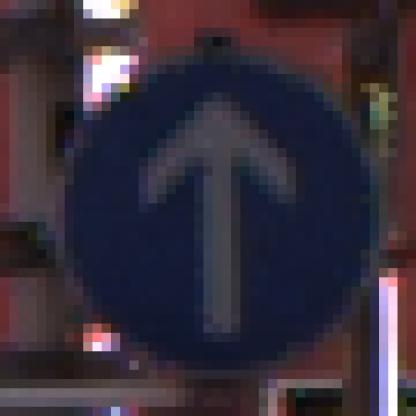AheadOnly: (47, 47, 362, 362)
